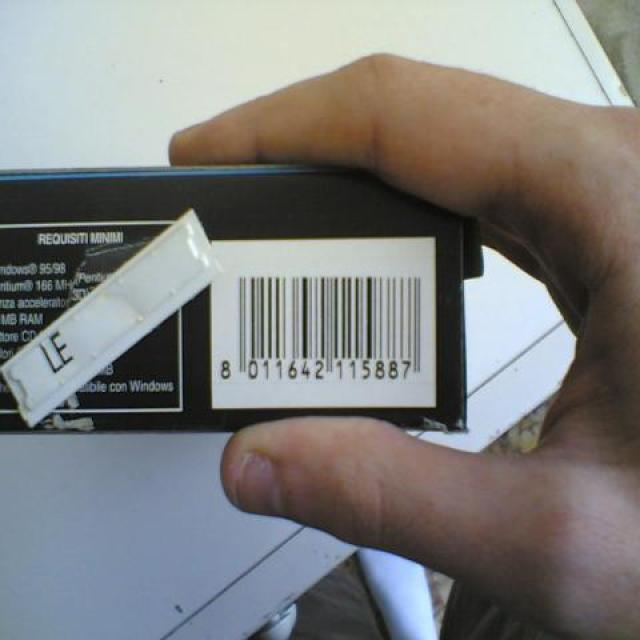Barcode: (210, 233, 437, 407)
